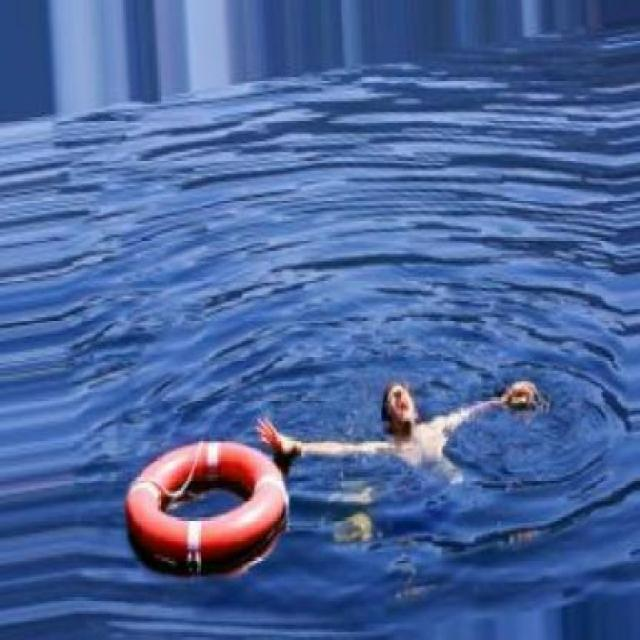drowning: (235, 294, 580, 632)
